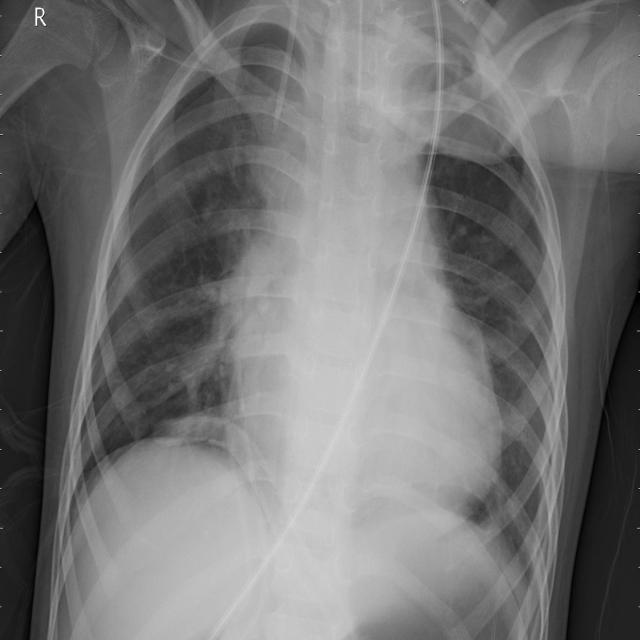high-pneumonia: (409, 39, 512, 172), (232, 50, 306, 193)
low-pneumonia: (166, 267, 252, 409)
